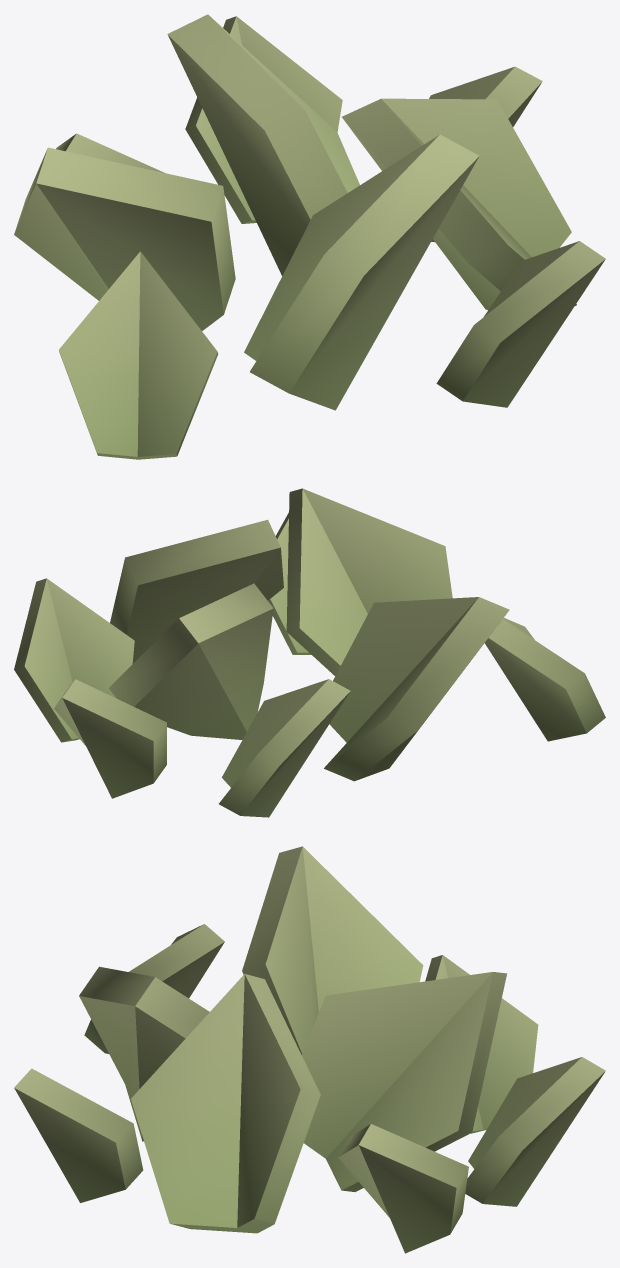
The model's file is wall-plant-floor.glb.
The picture shows the model from 3 angles, top to bottom: view 1: azimuth 30°, elevation 25°; view 2: azimuth 150°, elevation 25°; view 3: azimuth 270°, elevation 25°; orthographic projection. The views are drawn at different scales.
Visible parts, largest first — view 1: wall-plant-floor; view 2: wall-plant-floor; view 3: wall-plant-floor.
Boxes of the visible parts, x1,y1,x2,y2 form: wall-plant-floor: (14, 14, 605, 459); wall-plant-floor: (14, 488, 605, 817); wall-plant-floor: (14, 846, 605, 1253).
Size of the model in its own units: 0.4569 by 0.1839 by 0.4571.
